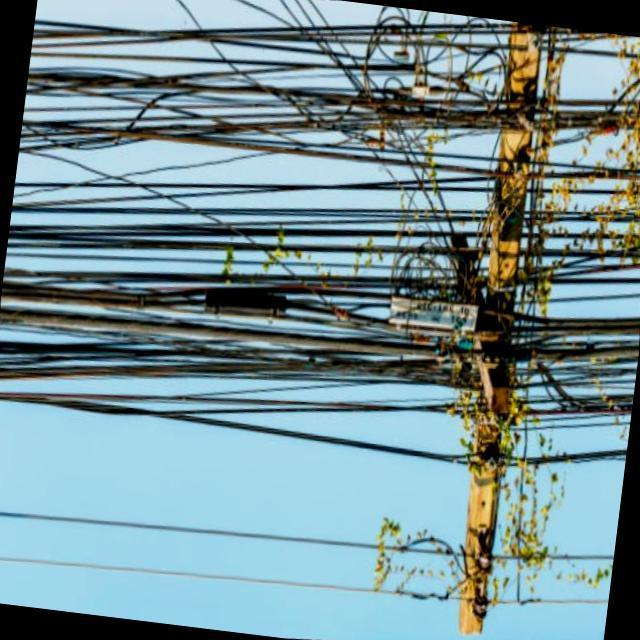critical vegetation: (382, 14, 594, 631)
